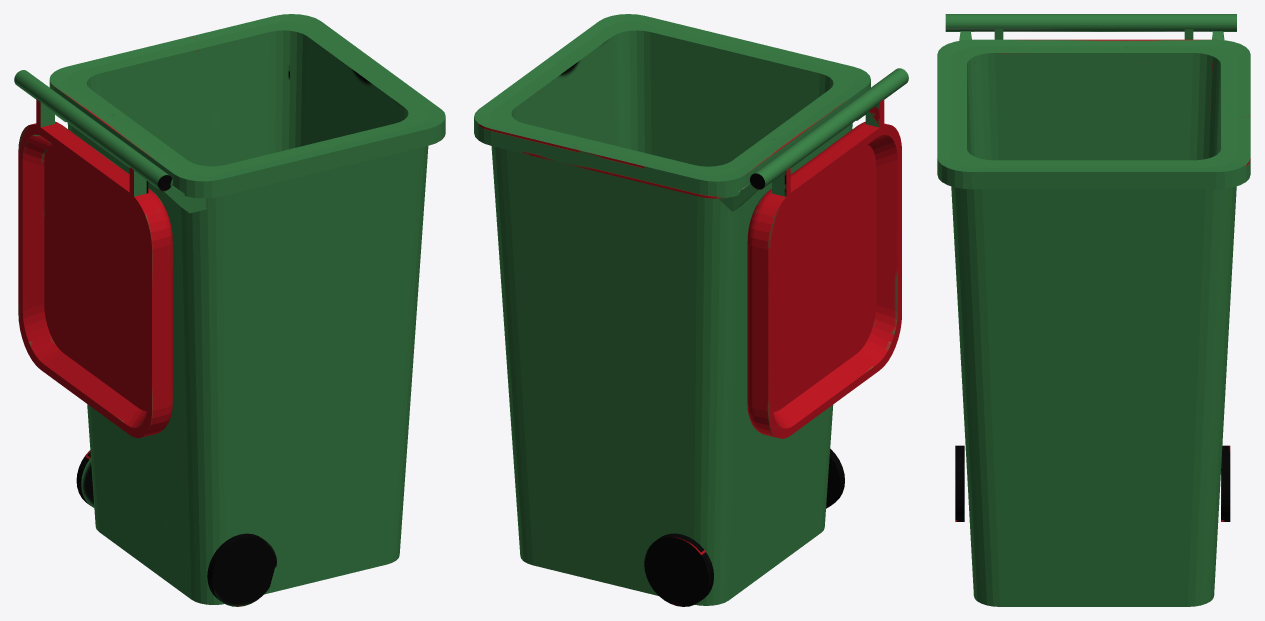
Rendered from wheely_bin.fbx.
3 views of the same model, side by side, from view 1: azimuth 30°, elevation 25°; view 2: azimuth 150°, elevation 25°; view 3: azimuth 270°, elevation 25° (orthographic).
Visible parts, largest first — view 1: Cube; view 2: Cube; view 3: Cube.
Boxes of the visible parts, box(x1,y1,x2,y2) form: Cube: box(14, 14, 445, 606); Cube: box(474, 14, 908, 606); Cube: box(937, 14, 1250, 606).
Size of the model in its own units: 242 by 357 by 218.
